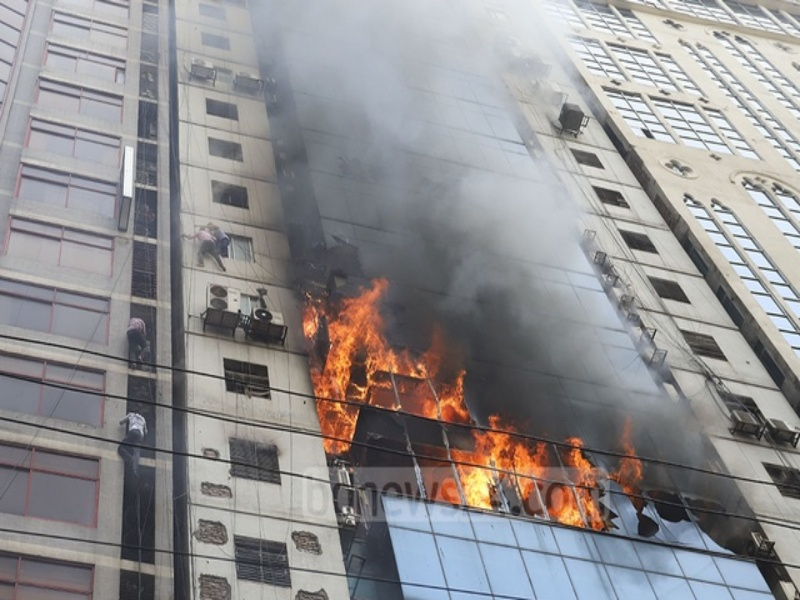smoke: (263, 1, 592, 380)
